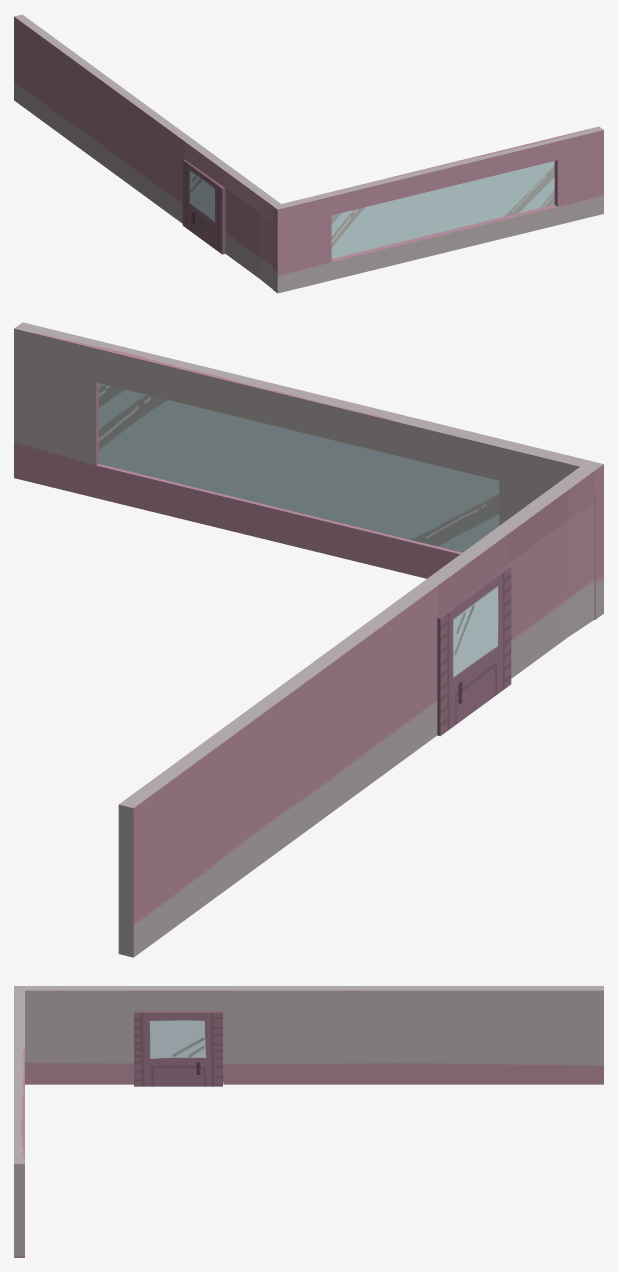
File: ParedSiSeVe_2.fbx
3 renders of one model, top to bottom at view 1: azimuth 30°, elevation 25°; view 2: azimuth 150°, elevation 25°; view 3: azimuth 270°, elevation 25°, orthographic. The views are drawn at different scales.
Parts seen in each view (by area): view 1: Prueba caffff.014; view 2: Prueba caffff.014; view 3: Prueba caffff.014.
Part boxes in pixels (x1,y1,x2,y2): Prueba caffff.014: [14, 14, 603, 293]; Prueba caffff.014: [14, 322, 603, 957]; Prueba caffff.014: [14, 986, 603, 1257].
Bounding box in the file's own units: 1166 × 285 × 1625.
